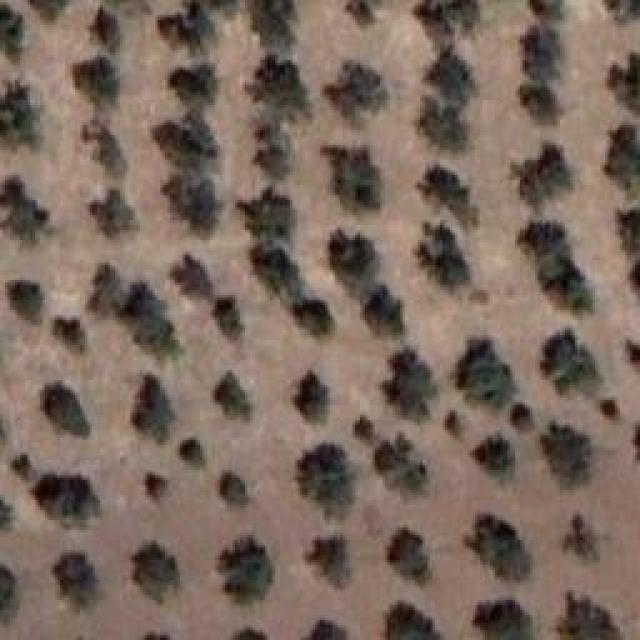Tree: (465, 515, 531, 581), (298, 443, 357, 515), (122, 285, 180, 357), (323, 60, 388, 123), (383, 348, 439, 421), (458, 340, 518, 408), (513, 142, 574, 207), (543, 330, 602, 396), (220, 535, 275, 603), (153, 115, 218, 172), (325, 144, 381, 210), (415, 223, 470, 290), (418, 166, 478, 226), (245, 55, 308, 112), (32, 475, 100, 527), (163, 175, 223, 232), (0, 175, 49, 242), (543, 422, 592, 487), (535, 260, 595, 313), (375, 435, 429, 493), (415, 0, 480, 48), (238, 188, 297, 240), (425, 47, 475, 107), (133, 375, 177, 443), (158, 0, 214, 53), (558, 595, 623, 640), (328, 230, 381, 285), (418, 98, 469, 154), (133, 543, 179, 604), (83, 118, 129, 178), (53, 553, 98, 611), (605, 125, 640, 198), (0, 80, 39, 145), (515, 25, 562, 77), (90, 187, 138, 237), (473, 600, 533, 640), (388, 530, 431, 585), (250, 243, 297, 292), (72, 58, 120, 105), (363, 290, 411, 337), (168, 68, 218, 112), (48, 382, 88, 437), (88, 263, 128, 316), (250, 0, 295, 47), (607, 52, 640, 113), (518, 220, 569, 259), (515, 80, 561, 123), (170, 255, 213, 300), (308, 538, 347, 587), (293, 370, 329, 422), (388, 605, 441, 640), (215, 373, 253, 421), (563, 513, 599, 561), (473, 432, 516, 472), (253, 143, 297, 180), (298, 297, 338, 337), (90, 8, 119, 54), (10, 283, 41, 325), (213, 298, 244, 340), (0, 2, 22, 60), (53, 318, 83, 354), (617, 207, 640, 252), (0, 565, 17, 623), (308, 620, 349, 640), (345, 0, 375, 26), (605, 0, 640, 22), (223, 473, 247, 505), (529, 0, 564, 19), (180, 440, 204, 467), (510, 403, 531, 431), (148, 473, 169, 500), (355, 415, 375, 441), (10, 453, 29, 480), (233, 628, 268, 640), (0, 498, 12, 530), (445, 410, 459, 436), (603, 400, 619, 418), (630, 257, 640, 285), (628, 340, 640, 363)
